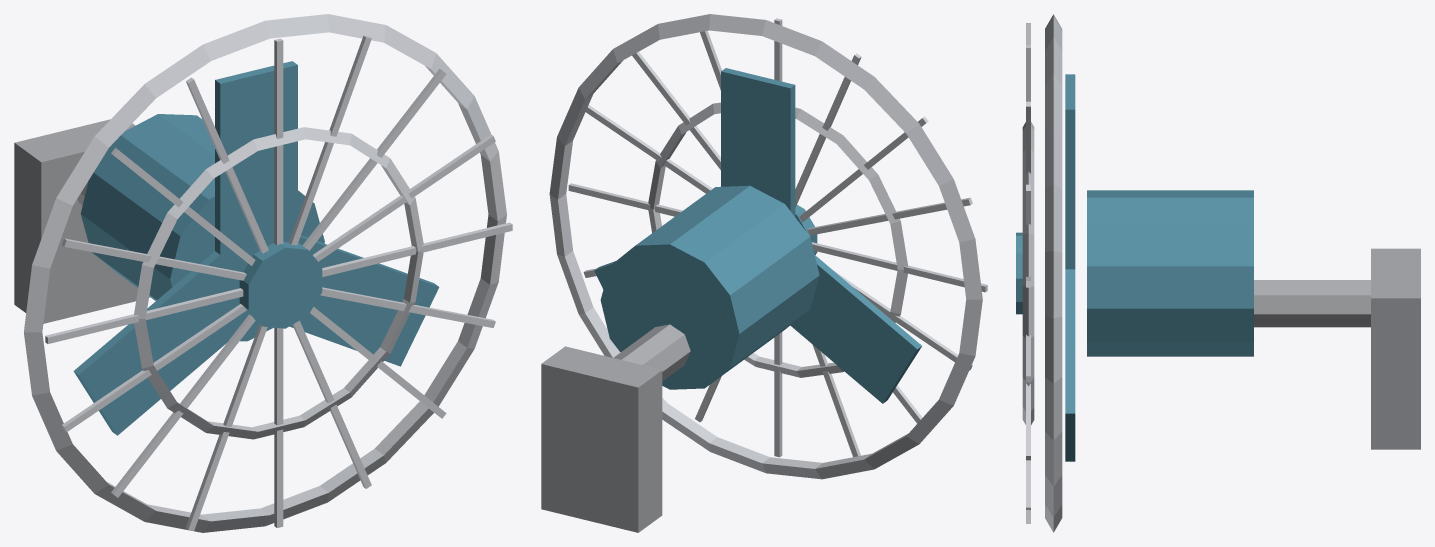
File: wall_fan.glb
The picture shows the model from 3 angles, left to right: view 1: azimuth 30°, elevation 25°; view 2: azimuth 150°, elevation 25°; view 3: azimuth 270°, elevation 25°; orthographic projection. The views are drawn at different scales.
Parts seen in each view (by area): view 1: wall_fan; view 2: wall_fan; view 3: wall_fan.
Part boxes in pixels (x1,y1,x2,y2): wall_fan: (14, 14, 512, 532); wall_fan: (541, 14, 987, 532); wall_fan: (1016, 14, 1420, 532).
Size of the model in its own units: 0.624 by 0.624 by 0.485.
